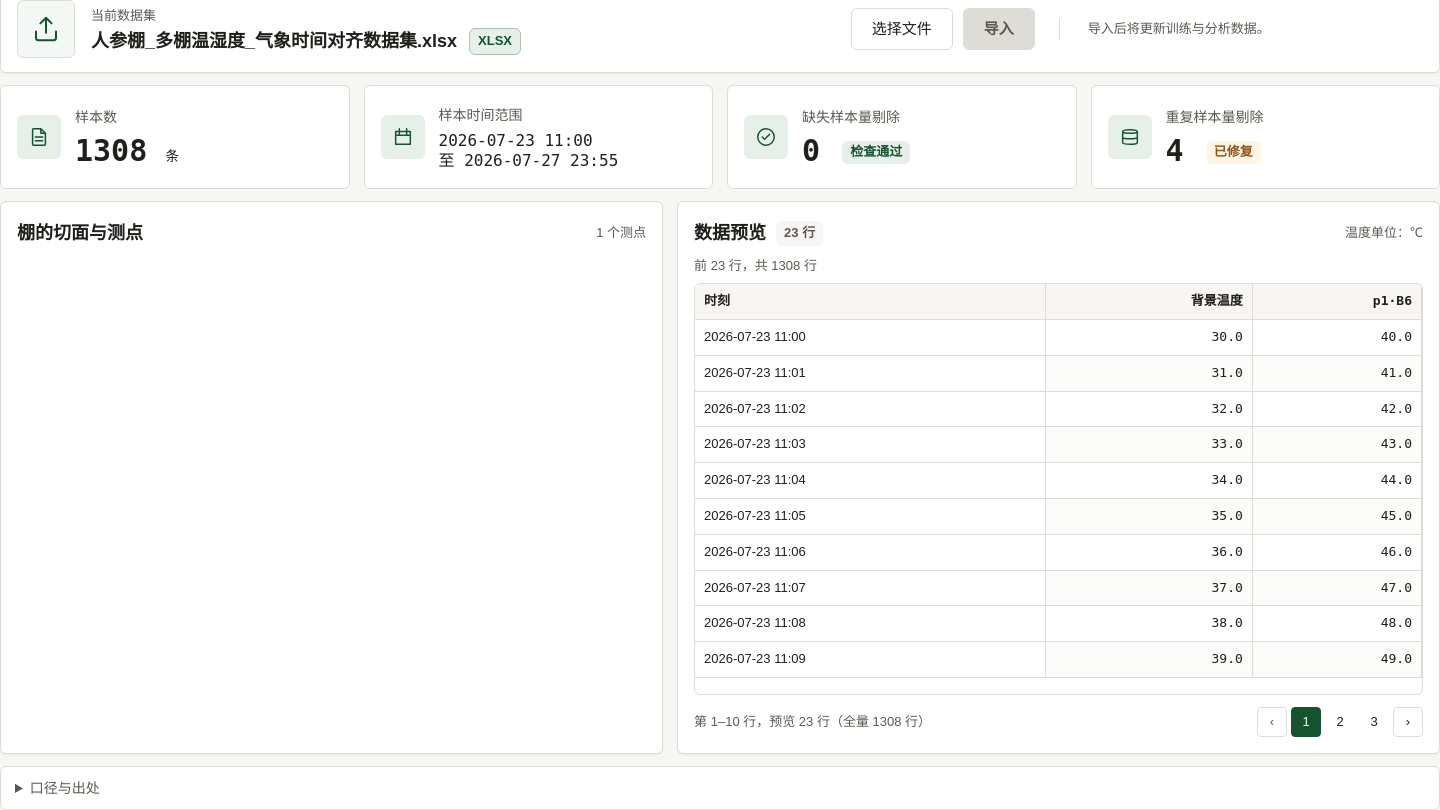
Test: 页① 数据导入与检查 › 数据预览每页十行，可翻页且显示真实预览范围
The width and height of the screenshot is (1440, 810).
(page scrolled)
Expected: the element showing "第 1–10 行，预览 23 行（全量 1308 行） ‹ 1 2 3 ›" is shown, [694, 695, 1423, 737]
Step 1. Click the button named "下一页" → (1408, 722), box [1393, 707, 1423, 737]
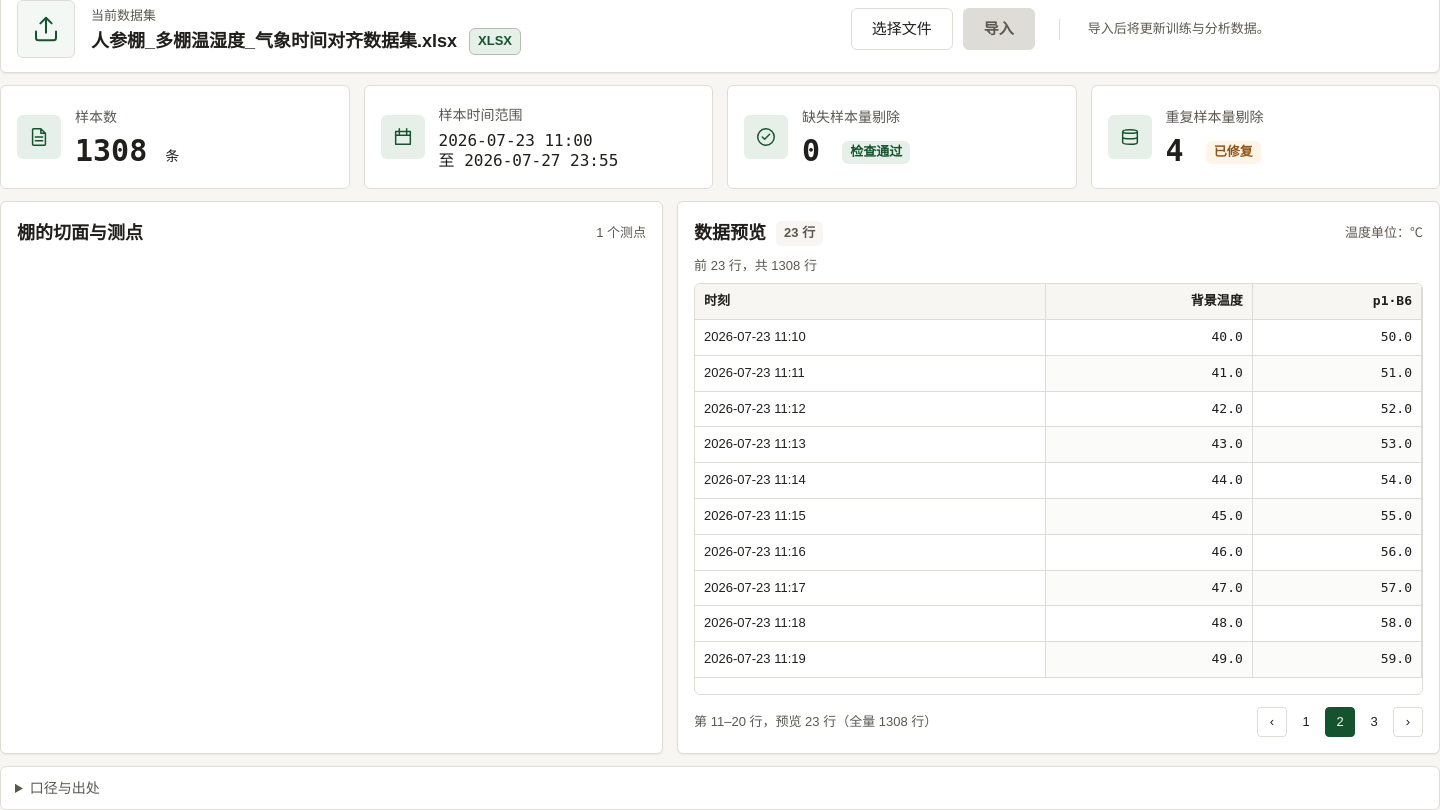
Now the row "2026-07-23 11:10 40.0 50.0" is shown, box [695, 320, 1422, 356]
Step 2. Click the button "3" → (1374, 722), box [1359, 707, 1389, 737]
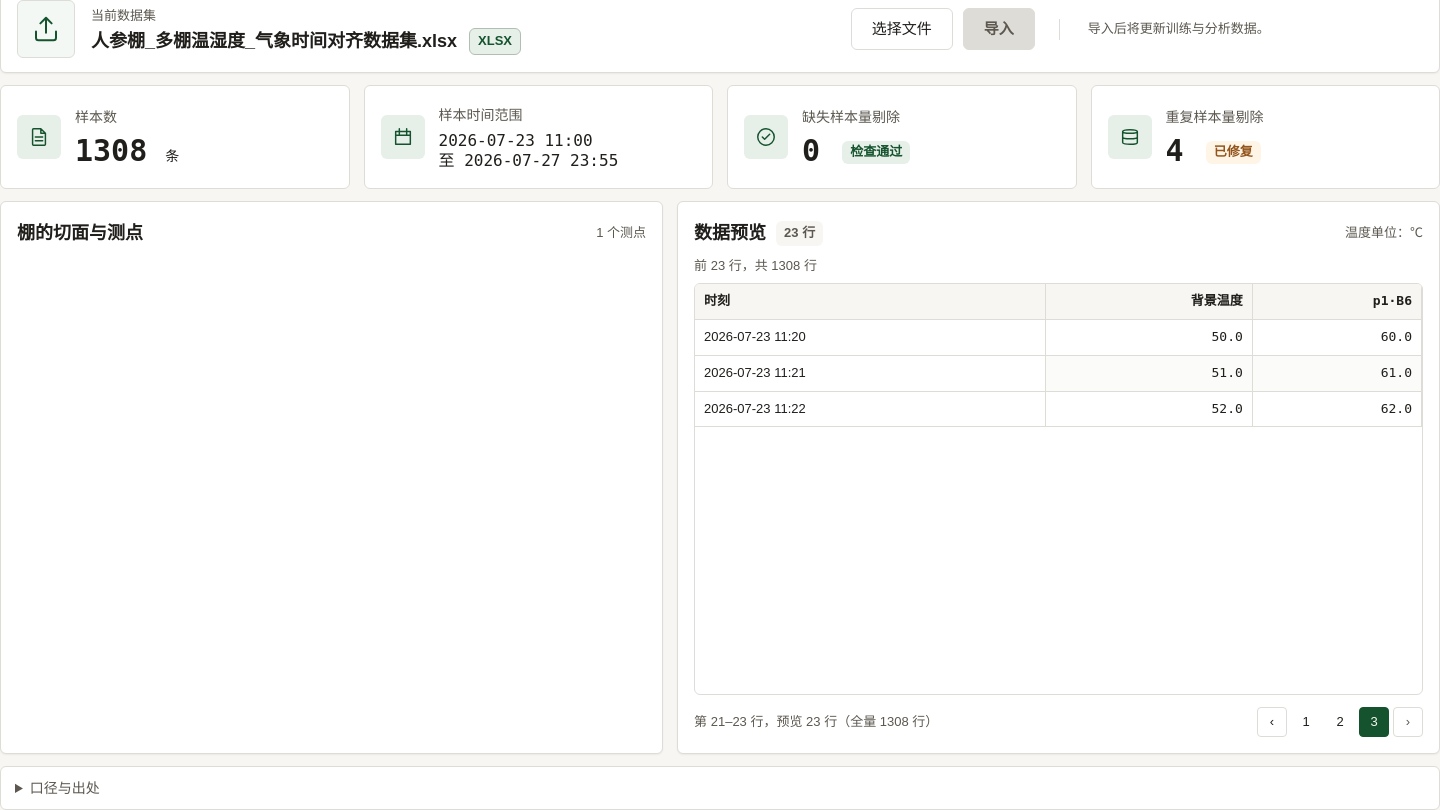
Now the element showing "第 21–23 行，预览 23 行（全量 1308 行） ‹ 1 2 3 ›" is shown, box [694, 695, 1423, 737]
